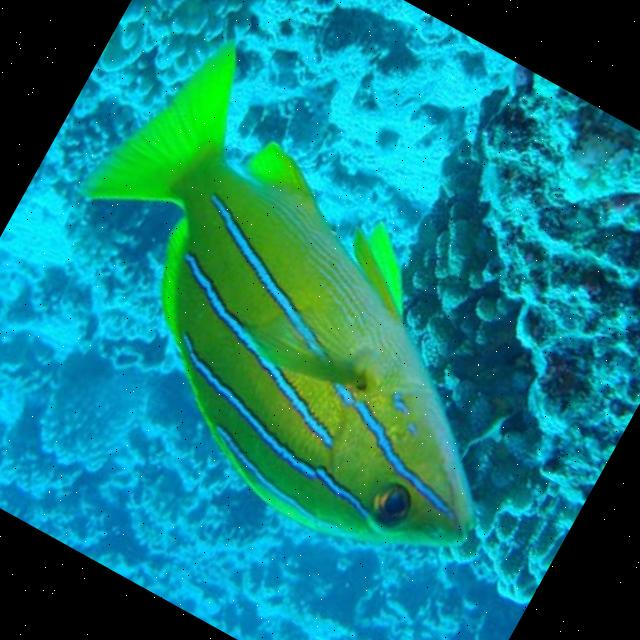ikan: (0, 9, 625, 603)
